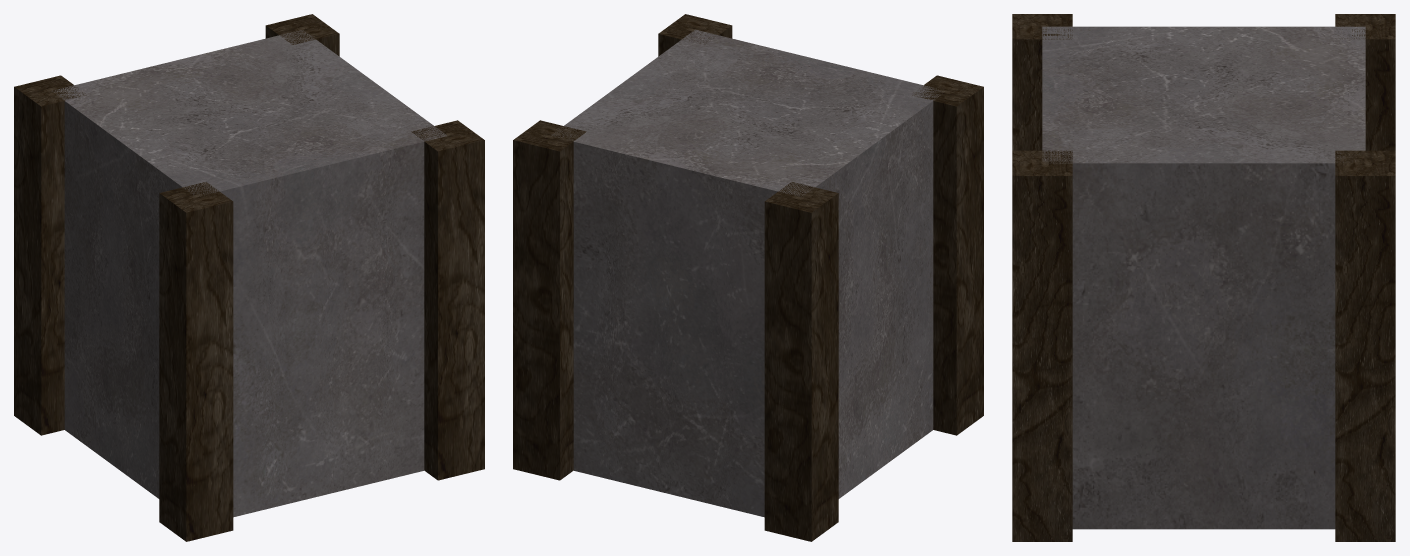
The model's file is Wall1.fbx.
3 renders of one model, left to right at view 1: azimuth 30°, elevation 25°; view 2: azimuth 150°, elevation 25°; view 3: azimuth 270°, elevation 25°, orthographic. The views are drawn at different scales.
Parts seen in each view (by area): view 1: Wall, Support4, Support5, Support3, Support2; view 2: Wall, Support3, Support2, Support4, Support5; view 3: Wall, Support2, Support5, Support4, Support3.
Part boxes in pixels (x1,y1,x2,y2): Wall: (51, 30, 446, 517); Support4: (159, 182, 233, 541); Support5: (411, 120, 484, 480); Support3: (14, 75, 86, 435); Support2: (265, 14, 339, 56); Wall: (552, 29, 944, 517); Support3: (764, 182, 838, 541); Support2: (513, 120, 586, 480); Support4: (912, 75, 983, 435); Support5: (658, 14, 732, 56); Wall: (1042, 26, 1365, 529); Support2: (1335, 150, 1395, 541); Support5: (1012, 150, 1072, 541); Support4: (1012, 14, 1072, 150); Support3: (1335, 14, 1395, 150).
Bounding box in the file's own units: 0.0474 × 0.05 × 0.0474.
